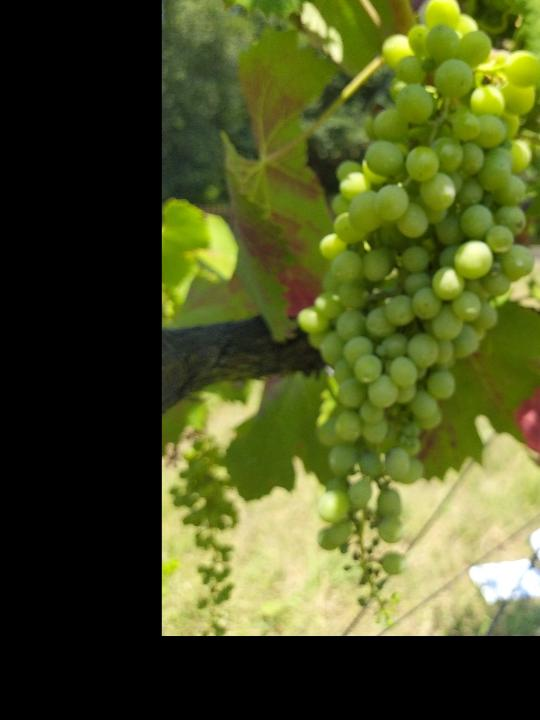grape: (297, 0, 540, 632)
